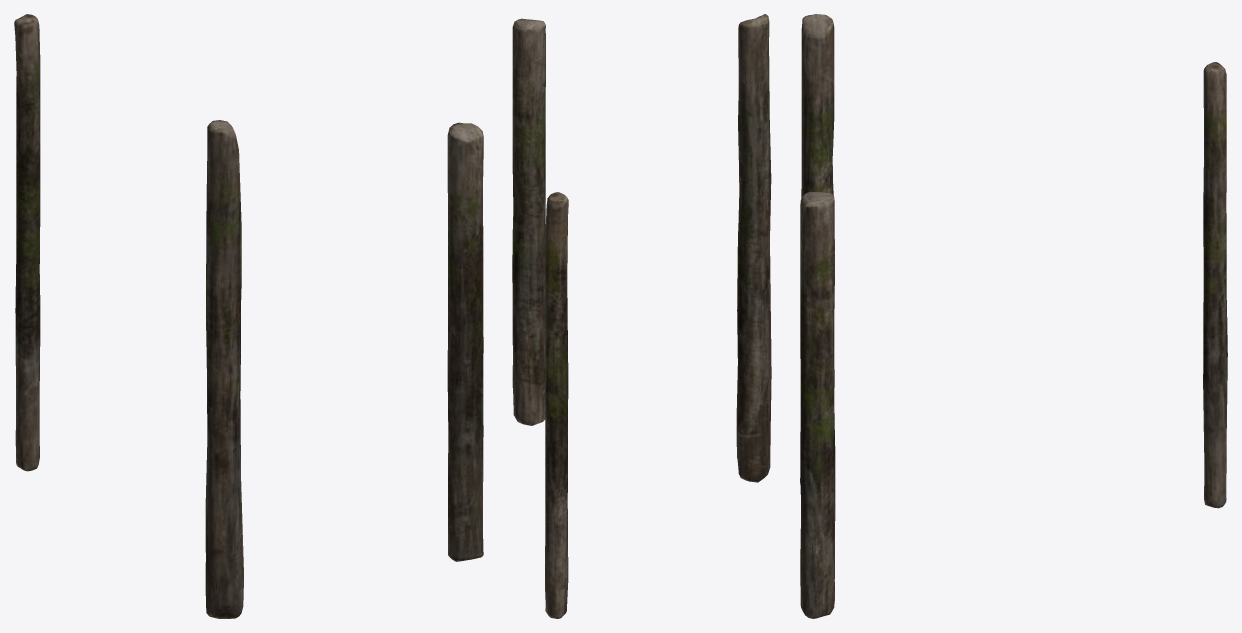
Rendered from pier_posts.glb.
The picture shows the model from 3 angles, left to right: view 1: azimuth 30°, elevation 25°; view 2: azimuth 150°, elevation 25°; view 3: azimuth 270°, elevation 25°; orthographic projection. The views are drawn at different scales.
Parts seen in each view (by area): view 1: modular_wooden_pier_poles; view 2: modular_wooden_pier_poles; view 3: modular_wooden_pier_poles.
Part boxes in pixels (x1,y1,x2,y2): modular_wooden_pier_poles: (14,14,483,618); modular_wooden_pier_poles: (512,14,771,618); modular_wooden_pier_poles: (800,14,1227,618).
Bounding box in the file's own units: 2.21 × 3.85 × 3.08.
Materials: 1 (1 with a texture image).
